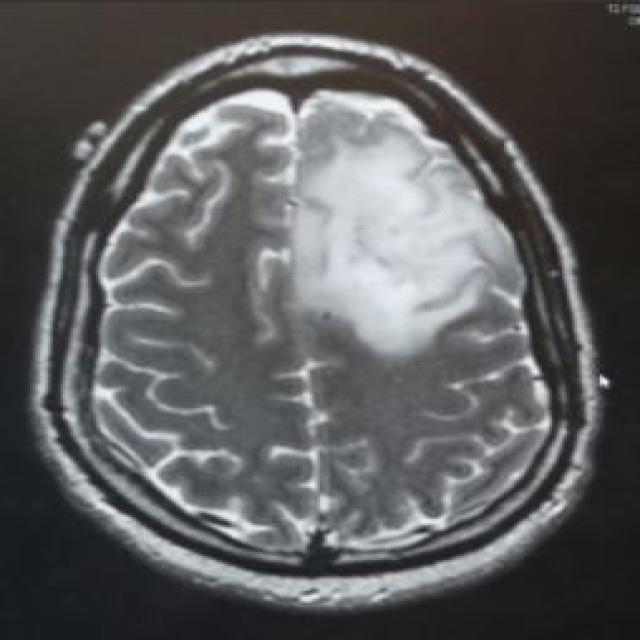Tumor-Cell: (266, 123, 483, 334)
